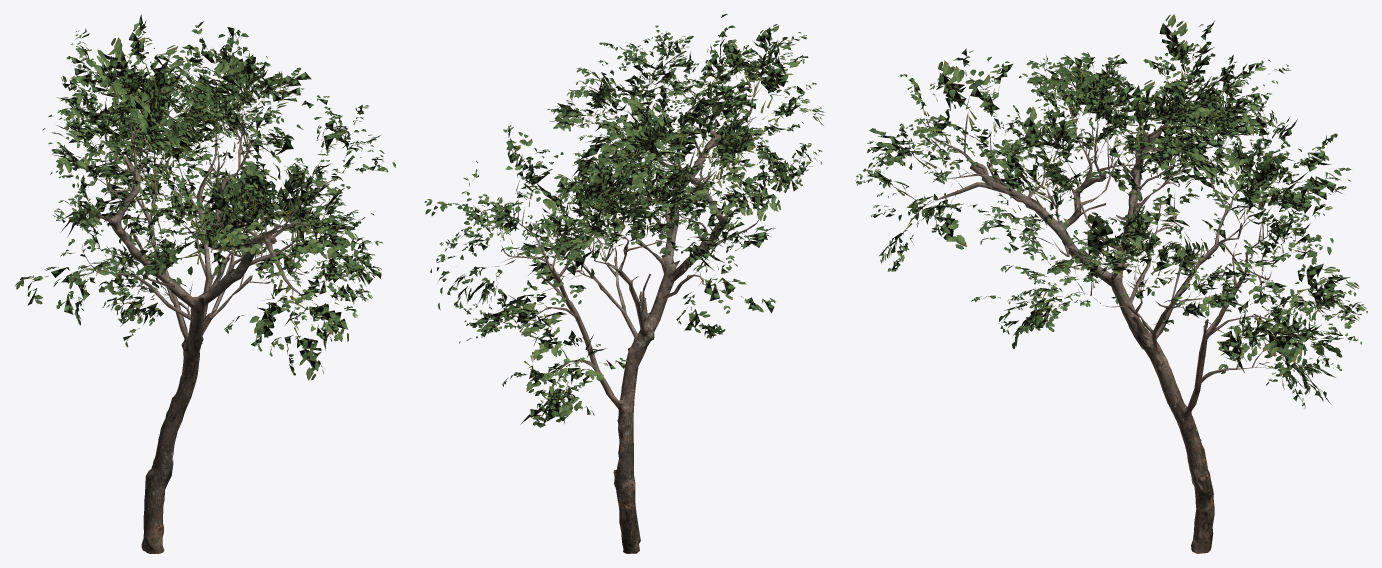
Rendered from tree-small.glb.
The picture shows the model from 3 angles, left to right: view 1: azimuth 30°, elevation 25°; view 2: azimuth 150°, elevation 25°; view 3: azimuth 270°, elevation 25°; orthographic projection. The views are drawn at different scales.
Visible parts, largest first — view 1: tree_small_02_LOD0; view 2: tree_small_02_LOD0; view 3: tree_small_02_LOD0.
Part boxes in pixels (box(x1,y1,x2,y2)): tree_small_02_LOD0: box(14, 14, 395, 553); tree_small_02_LOD0: box(424, 14, 825, 553); tree_small_02_LOD0: box(855, 14, 1367, 553).
Size of the model in its own units: 2.91 by 4.57 by 4.26.
3 materials, 3 textured.
